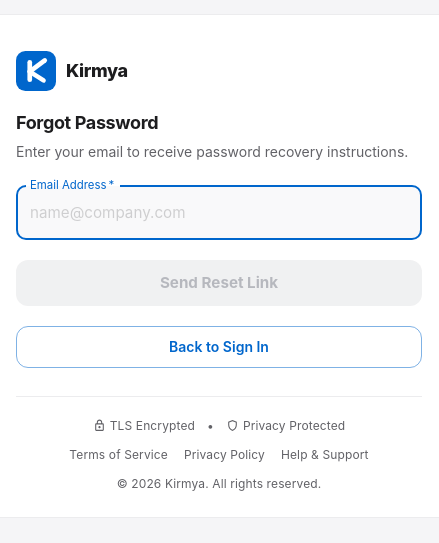
Test: ForgotPasswordPage › surfaces a server failure instead of claiming the email was sent
Type "person@example.com" into the field labelled "Email Address *".
click(219, 213); type("person@example.com")  # box [16,186,422,240]
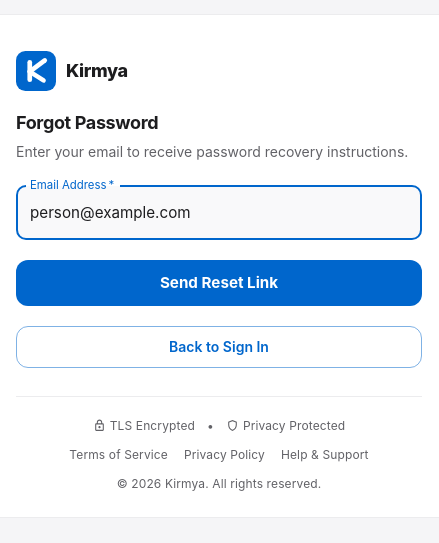
Click the button "Send Reset Link".
click(219, 283)  # box [16,260,422,306]
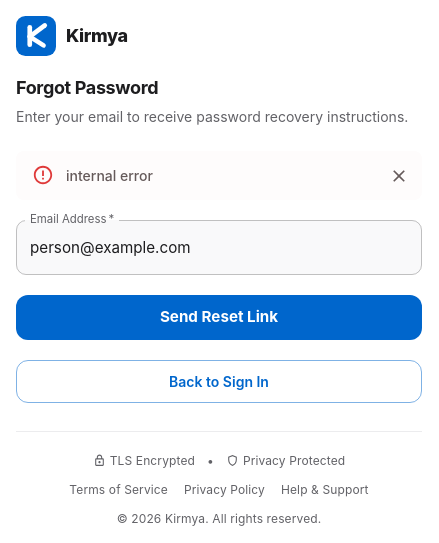
Now the message "internal error" is shown, box [16,151,422,200]
